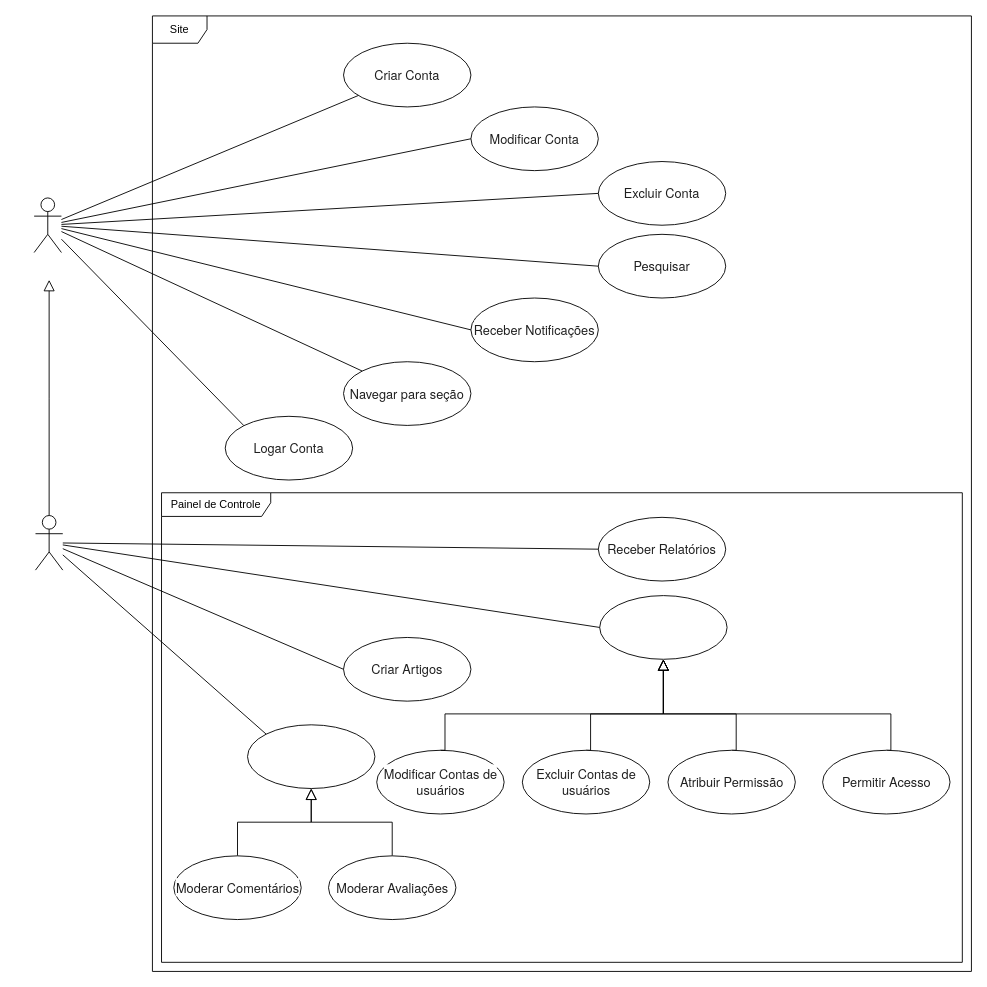
The diagram is 987 pixels wide and 987 high, and some of its shapes have lost their labels. The centre of each missing label's shape, as x and y in pixels:
Administrador: the point at 49,542
Cliente: the point at 47,225
Gerenciar Contas de Usuário: the point at 663,627
Moderar: the point at 311,756
